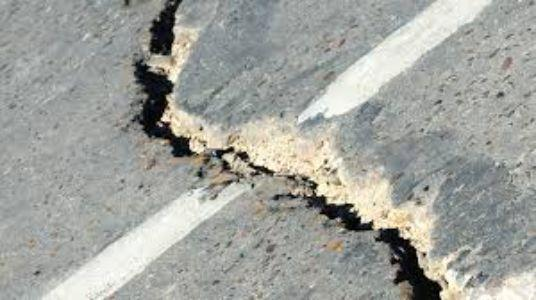pothole: (117, 0, 463, 300)
